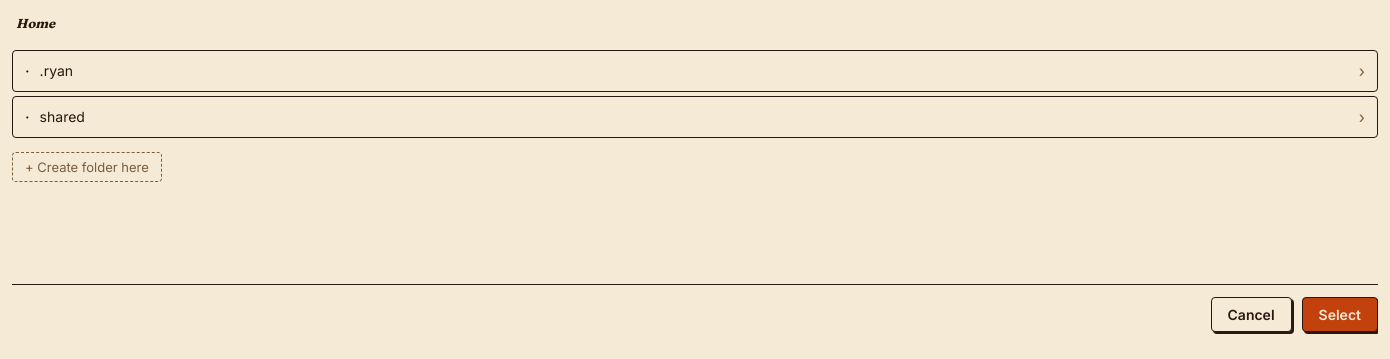
FolderPickerModal › inline create: on 201, new folder appears and becomes current level
Expected: the text ".ryan" is shown, x1=40 y1=62 x2=73 y2=79
Click the button "+ Create folder here". click: x=87, y=166
box: x1=12 y1=152 x2=162 y2=182
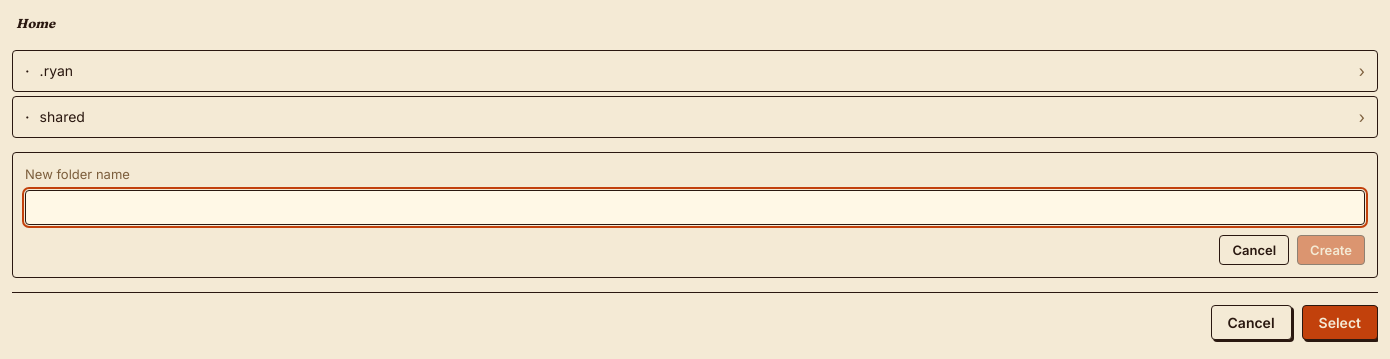
Type "fresh" into the field labelled "New folder name". click: x=695, y=208
box: x1=25 y1=190 x2=1365 y2=225
Then press Enter
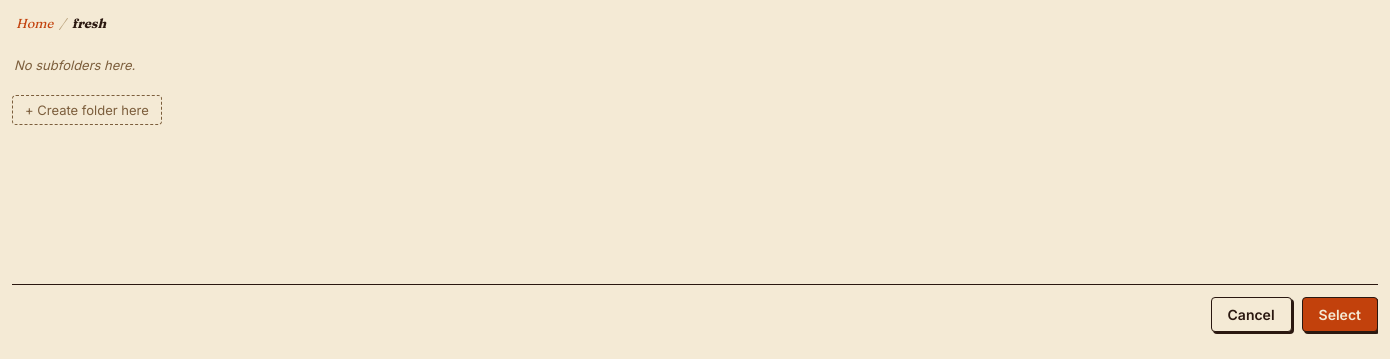
Expected: the button "fresh" is shown, x1=68 y1=12 x2=110 y2=36
Expected: the button ".ryan" is gone
